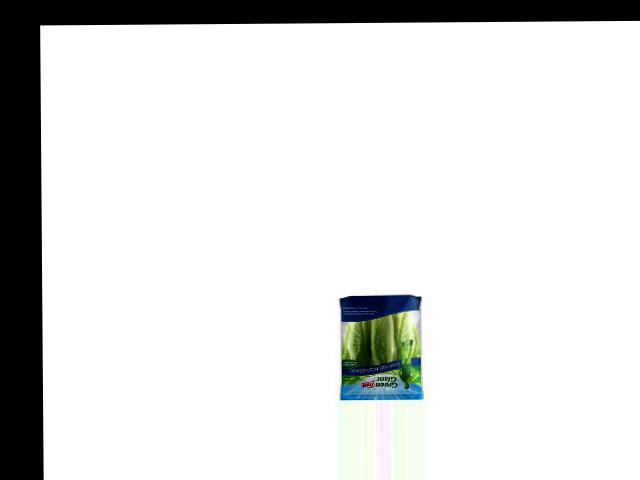lettuce: (338, 290, 425, 395)
